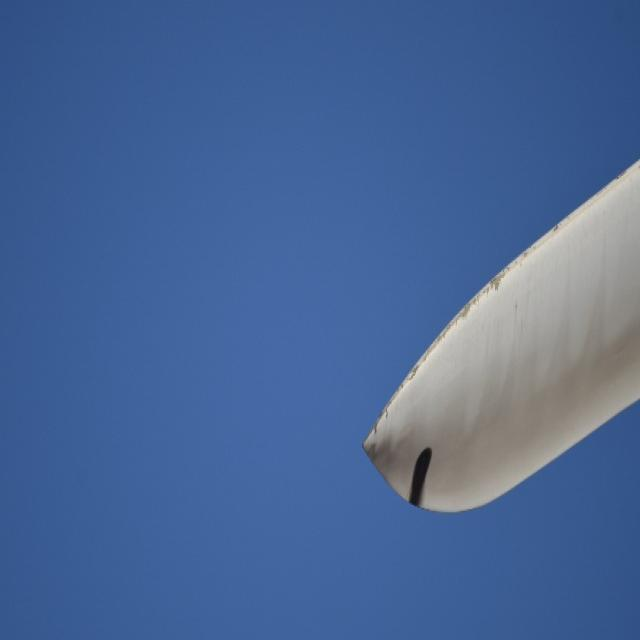Burn Mark: (406, 443, 433, 509)
EROSION: (360, 217, 556, 443)
